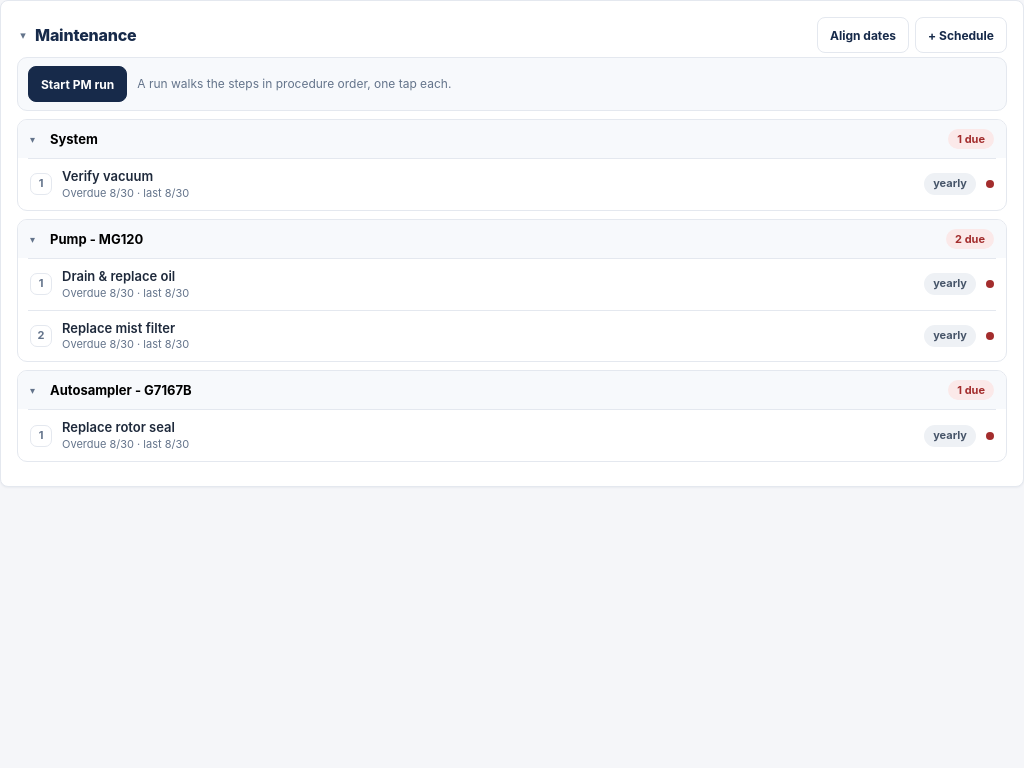
the PM run › still opens the record during a run, and opening never completes it
Click the button "Start PM run" at (78, 84), box [28,66,127,102]
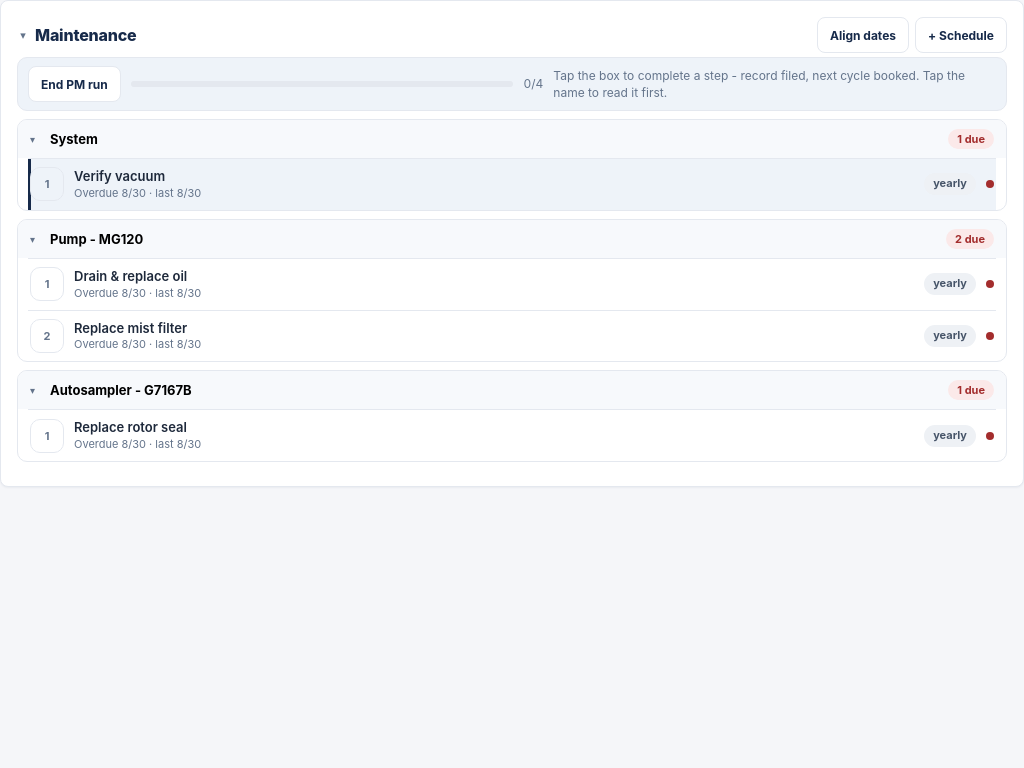
Click the text "Replace mist filter" at (131, 328), box [74,320,187,336]
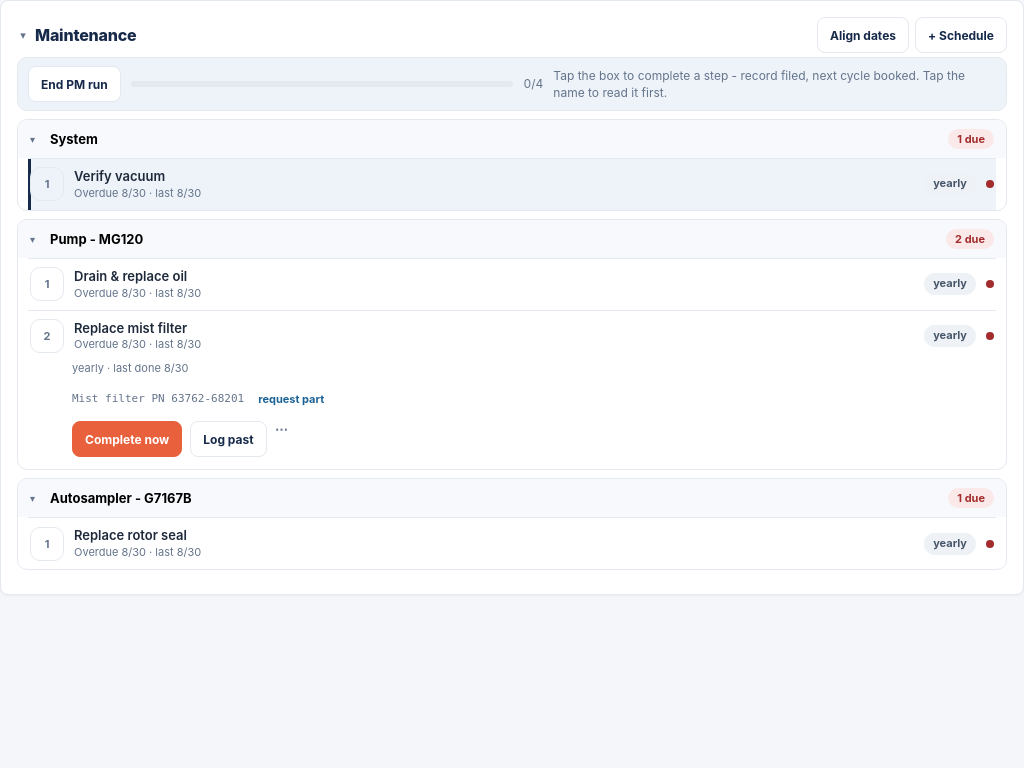
expect the text "Mist filter PN 63762-68201" is shown: met, box [72,391,244,407]
expect the button "Complete now" is shown: met, box [72,421,182,457]
